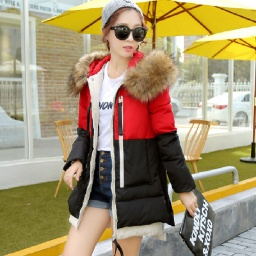face: (94, 4, 147, 67)
